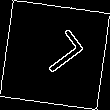L_SW: (26, 27, 84, 83)
